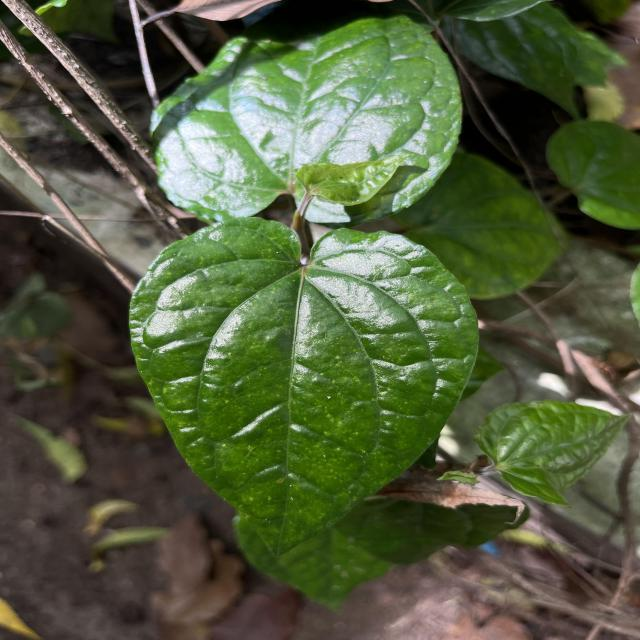Piper betle: (126, 213, 483, 562)
